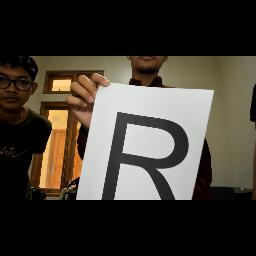r: (98, 110, 188, 200)
